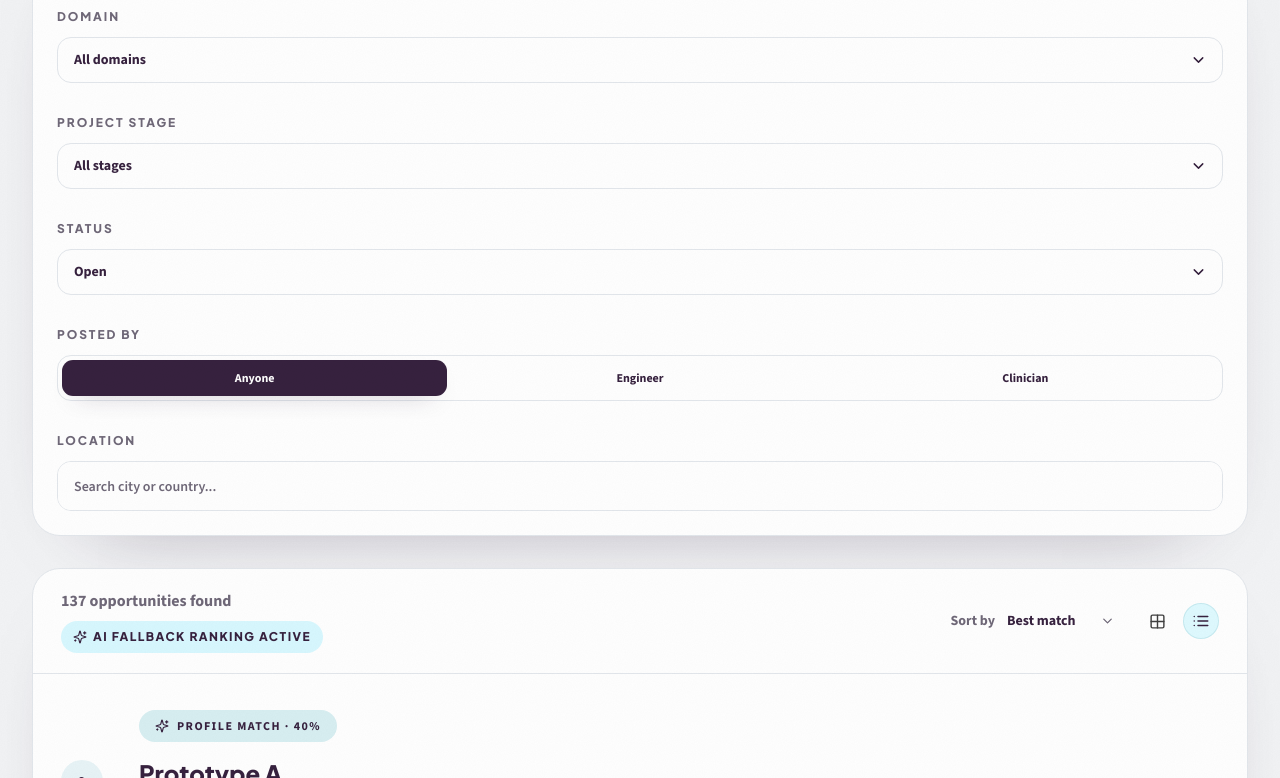
PostListPage (server-side list) › writes a changed filter to the URL, drops the page number and asks the server again
(page scrolled)
Step 1. Click the button "Clinician" → x=1025, y=378, box [833,360,1218,396]
(page scrolled)
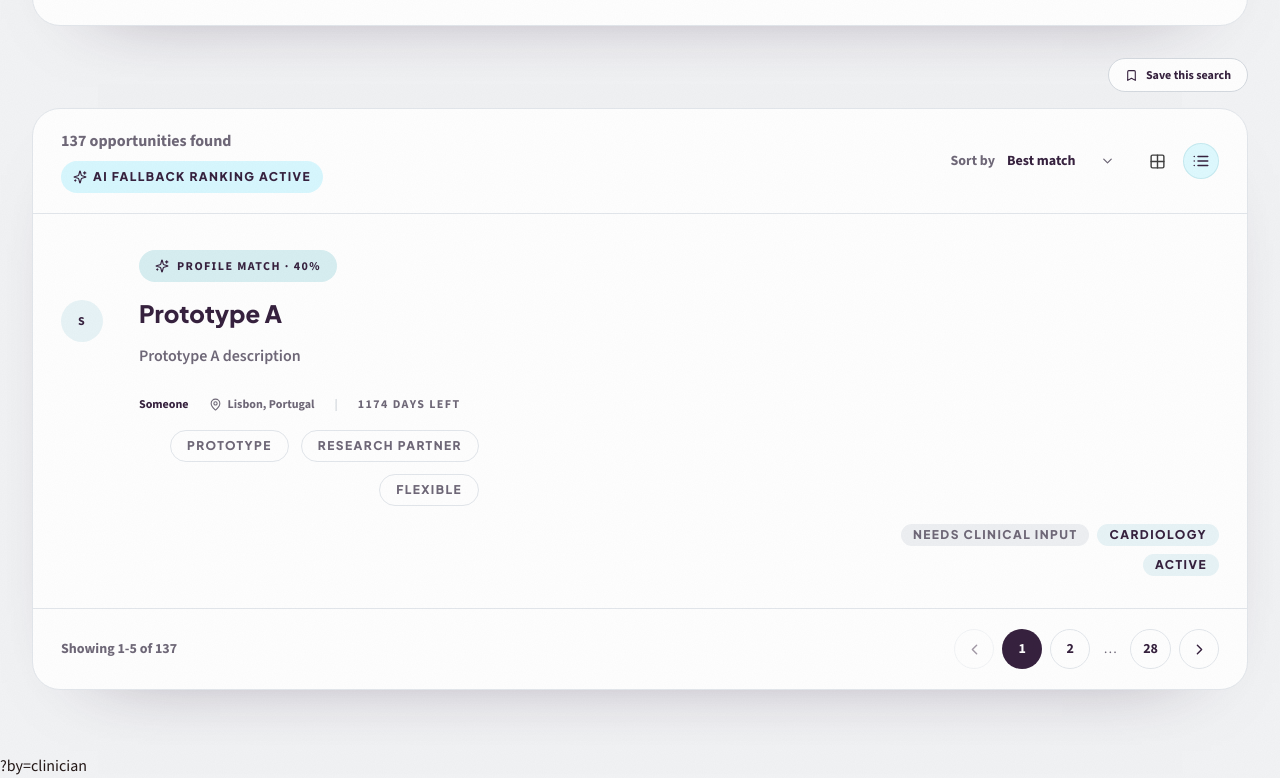
Expected: the text with test id "search" reads "?by=clinician", [0,755,87,776]
